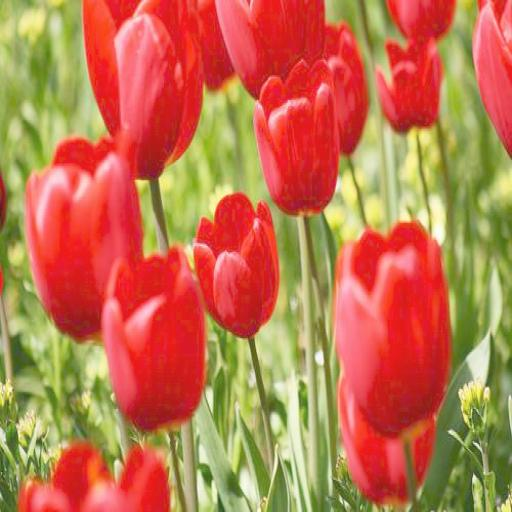tulip: (332, 218, 452, 438), (22, 132, 146, 340), (82, 1, 204, 180), (101, 243, 207, 432), (254, 57, 342, 215), (192, 189, 280, 340), (374, 32, 443, 137)
